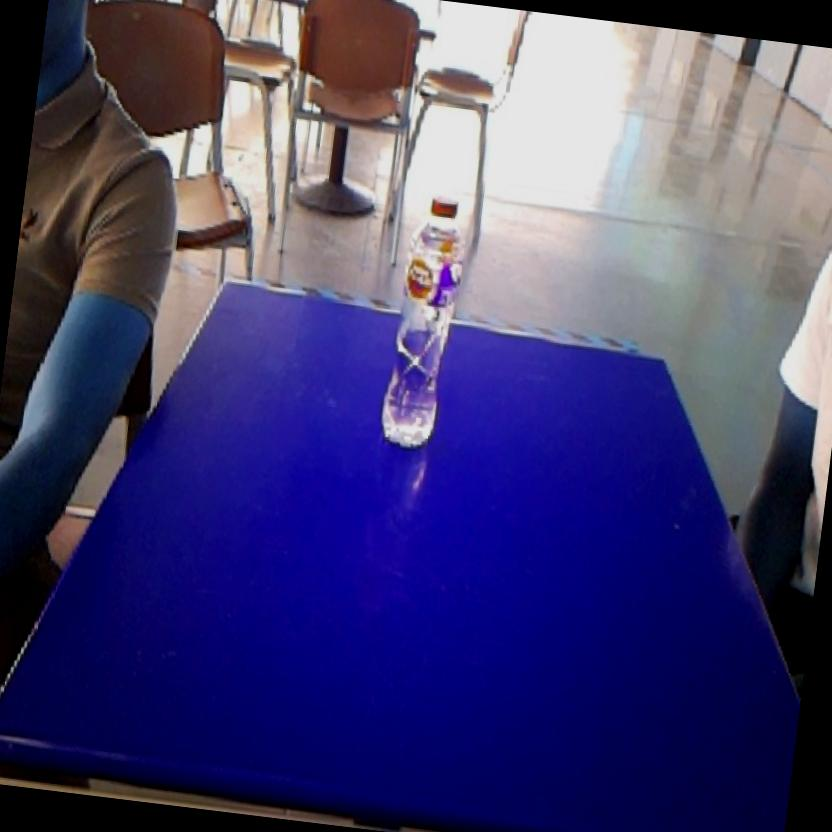good: (369, 177, 478, 460)
